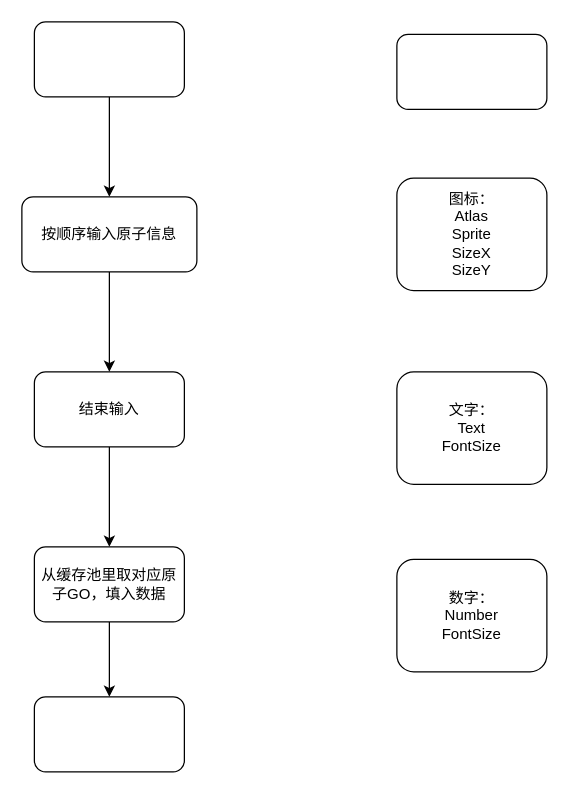
The diagram is 569 pixels wide and 794 high, and some of its shapes have lost their labels. The centre of each missing label's shape, as x and y in pixels:
"定义三种原子的输入" goes at point 471,71.
"开始输入，填入： 展示时间" goes at point 108,59.
"计算尺寸 计算偏移 展示" goes at point 108,734.
